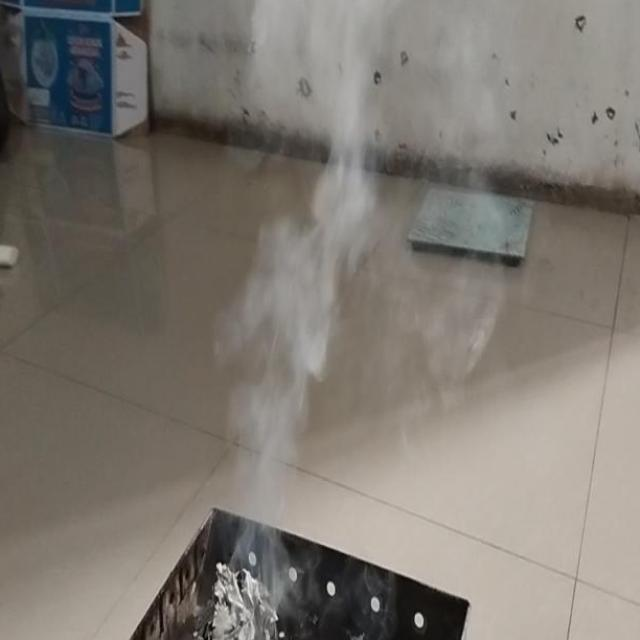fire: (212, 193, 334, 620), (307, 0, 383, 259)
